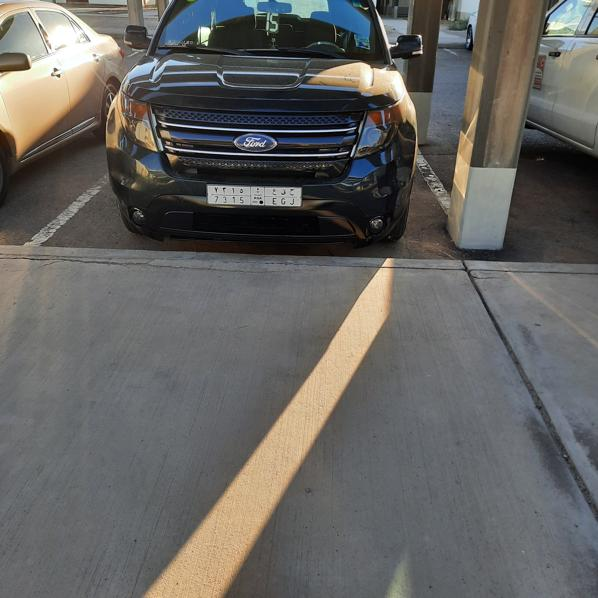numberplate: (208, 185, 302, 206)
